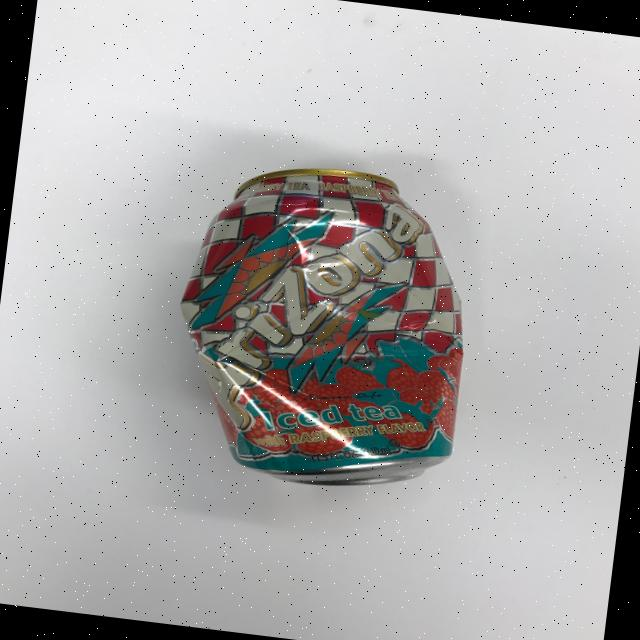metal: (159, 150, 486, 502)
